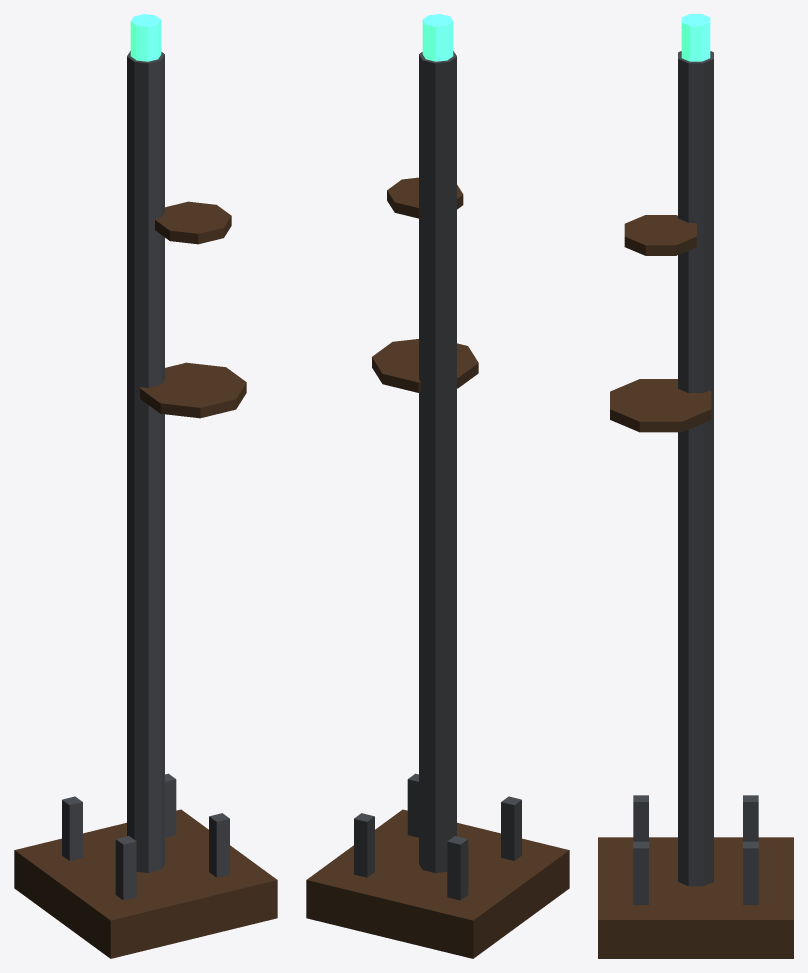
File: shaddai_dist_forest_b3_v01.glb
3 renders of one model, left to right at view 1: azimuth 30°, elevation 25°; view 2: azimuth 150°, elevation 25°; view 3: azimuth 270°, elevation 25°, orthographic.
Parts seen in each view (by area): view 1: shaddai_dist_forest_b3; view 2: shaddai_dist_forest_b3; view 3: shaddai_dist_forest_b3.
Boxes of the visible parts, x1,y1,x2,y2 form: shaddai_dist_forest_b3: (14,14,277,958); shaddai_dist_forest_b3: (306,14,569,958); shaddai_dist_forest_b3: (598,14,793,958).
Bounding box in the file's own units: 5 × 25.3 × 5.
